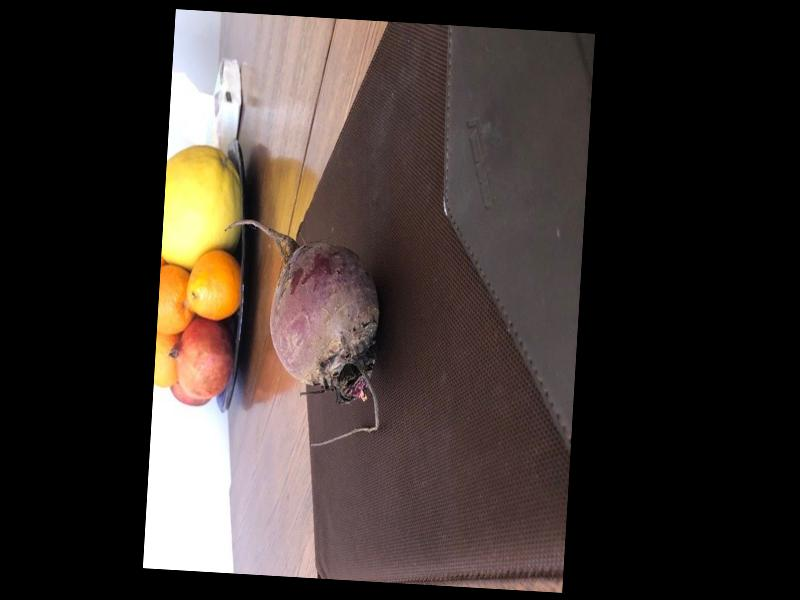Beet: (211, 216, 390, 451)
